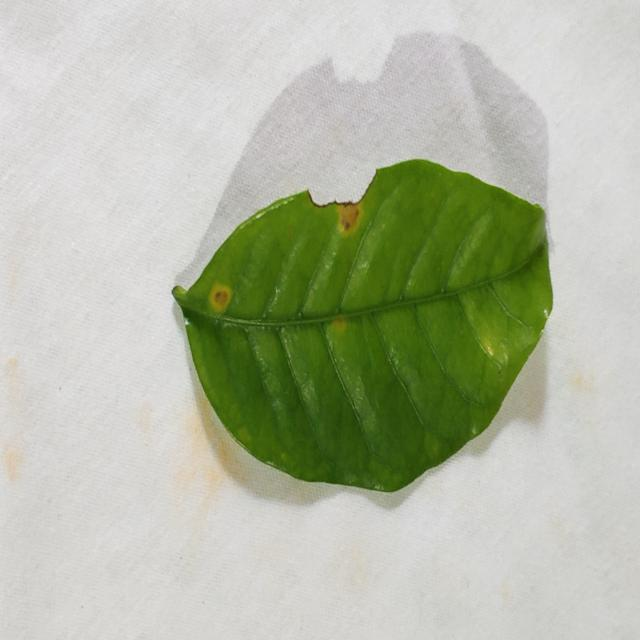Enfermedad-Roya: (171, 159, 554, 496)
